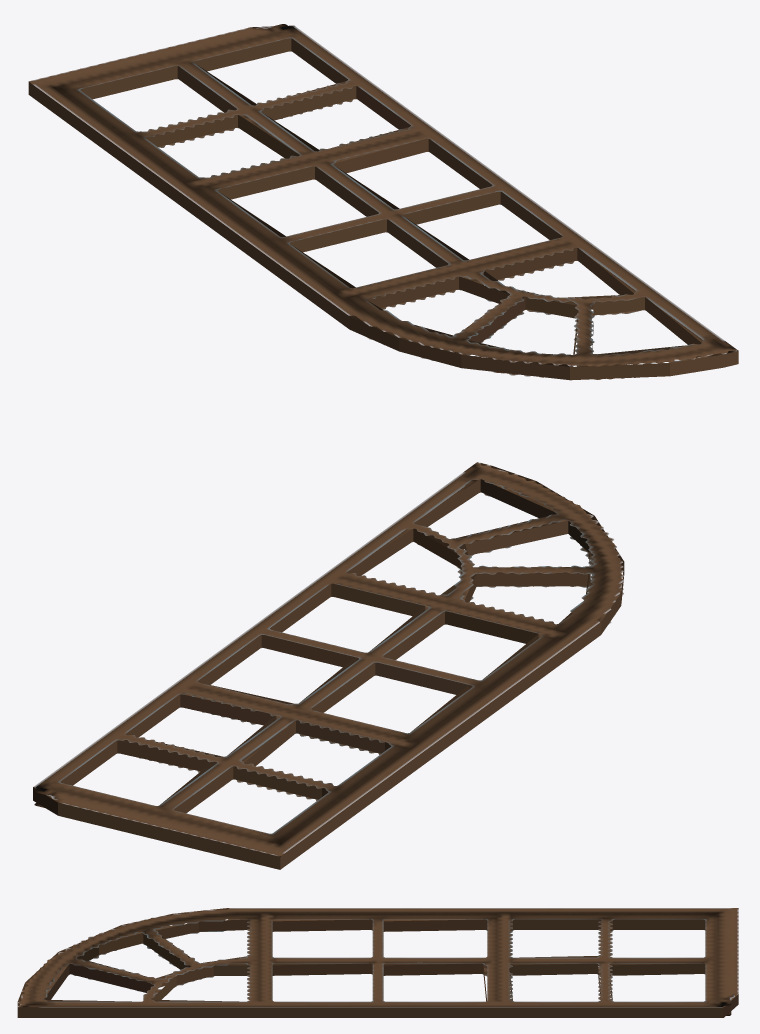
The model's file is pz_native_fixtures_windows_wood_5_frame.obj.
3 views of the same model, one above another, from view 1: azimuth 30°, elevation 25°; view 2: azimuth 150°, elevation 25°; view 3: azimuth 270°, elevation 25° (orthographic). The views are drawn at different scales.
Visible parts, largest first — view 1: pz_native_fixtures_windows_wood_5_frame; view 2: pz_native_fixtures_windows_wood_5_frame; view 3: pz_native_fixtures_windows_wood_5_frame.
Boxes of the visible parts, x1,y1,x2,y2 form: pz_native_fixtures_windows_wood_5_frame: [28, 24, 738, 380]; pz_native_fixtures_windows_wood_5_frame: [33, 462, 624, 869]; pz_native_fixtures_windows_wood_5_frame: [17, 908, 738, 1017].
Size of the model in its own units: 0.8594 by 0.04 by 2.53.
1 material, 1 textured.
